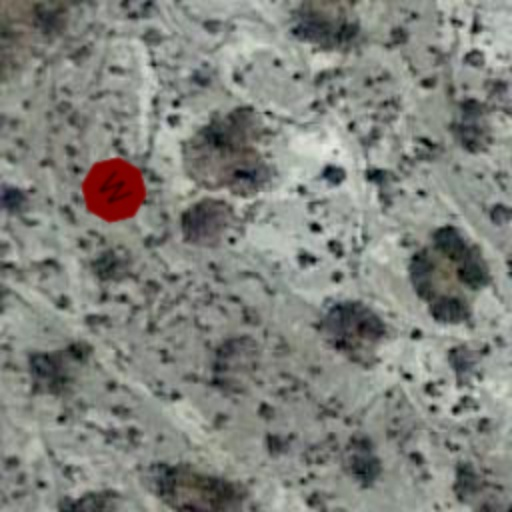octagon: (66, 142, 162, 238)
